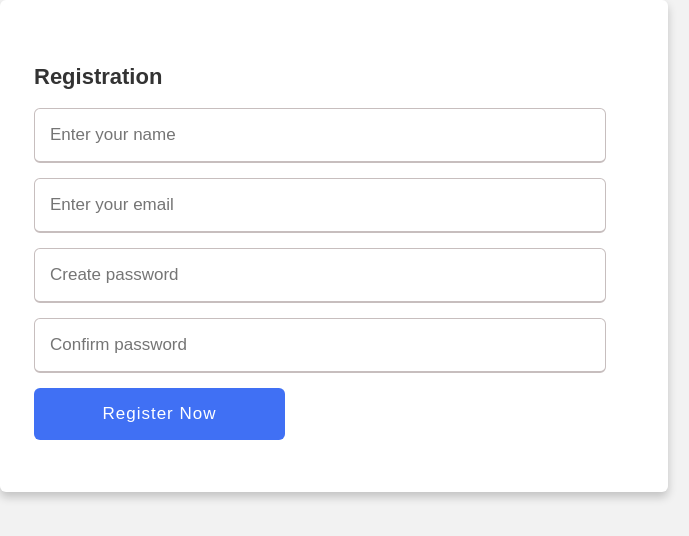
Test case: SignUp Component › Display error message when sign-in fails
This screenshot has width=689, height=536.
# Simulate entering email and password
Type "abc" into the field with placeholder "Enter your name" at (320, 136), box [34,108,606,163]
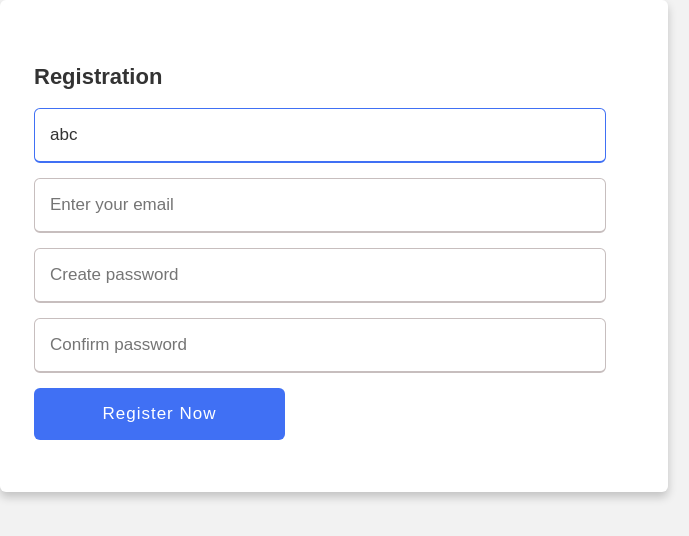
Type "test@example.com" into the field with placeholder "Enter your email" at (320, 206), box [34,178,606,233]
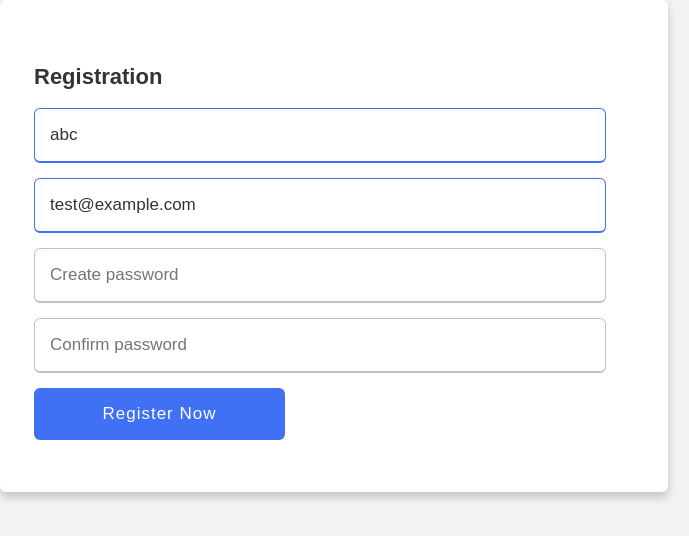
Type "password123" into the password field with placeholder "Create password" at (320, 276), box [34,248,606,303]
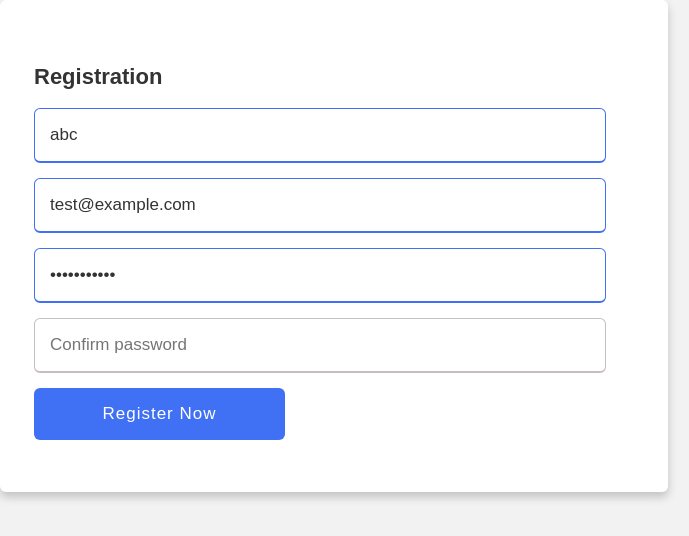
Type "password123" into the password field with placeholder "Confirm password" at (320, 346), box [34,318,606,373]
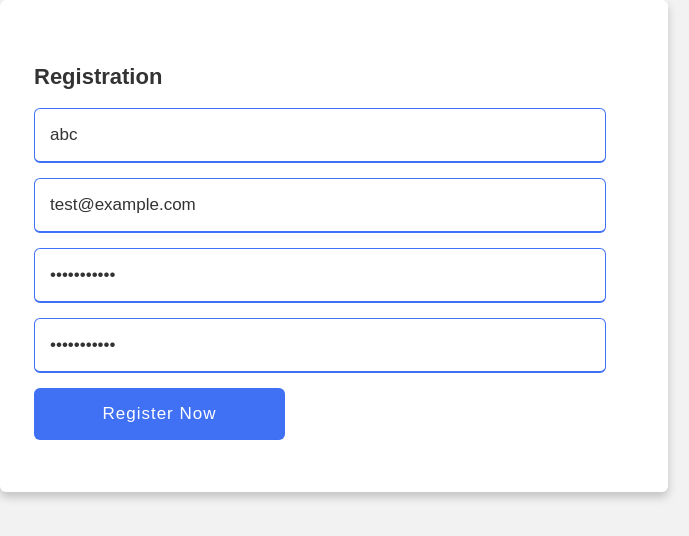
# Simulate clicking the Log In button
Click the 3rd field at (160, 414), box [34,388,285,440]
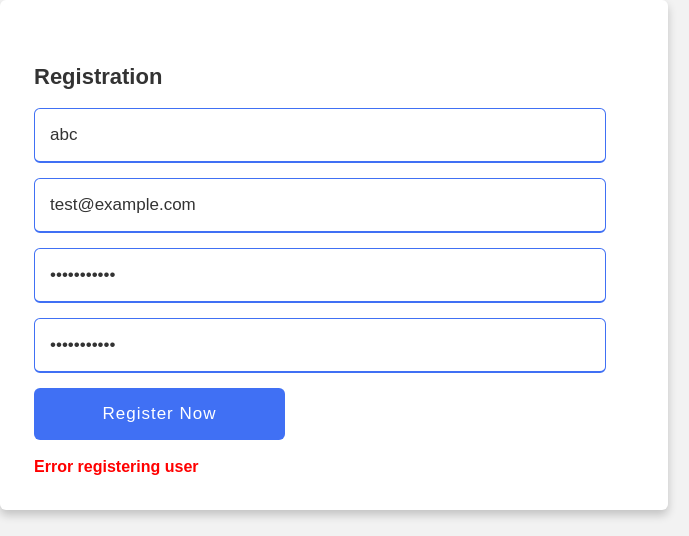
Check: the text "Error registering user" is shown, box [34,458,198,475]
